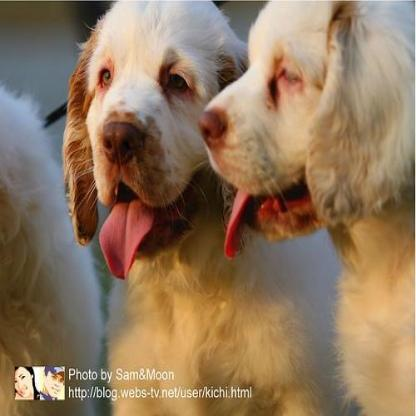clumber: (58, 0, 336, 410), (197, 0, 413, 414)
